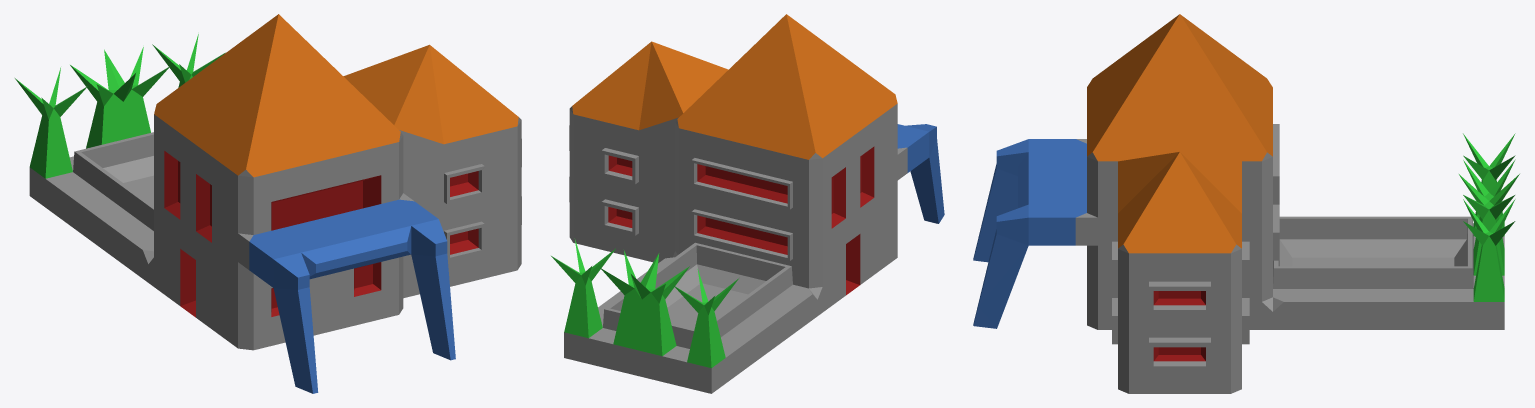
The picture shows the model from 3 angles, left to right: view 1: azimuth 30°, elevation 25°; view 2: azimuth 150°, elevation 25°; view 3: azimuth 270°, elevation 25°; orthographic projection. The views are drawn at different scales.
Visible parts, largest first — view 1: Box001_Part_2, Box001_Part_1, Box001_Part_3, Box001_Part_6, Box001_Part_4; view 2: Box001_Part_2, Box001_Part_3, Box001_Part_5, Box001_Part_6, Box001_Part_4, Box001_Part_1; view 3: Box001_Part_1, Box001_Part_3, Box001_Part_4, Box001_Part_5, Box001_Part_2, Box001_Part_6.
Boxes of the visible parts, left/top/right/bottom form: Box001_Part_2: left=154, top=14, right=422, bottom=393; Box001_Part_1: left=341, top=75, right=521, bottom=336; Box001_Part_3: left=15, top=34, right=225, bottom=257; Box001_Part_6: left=114, top=204, right=455, bottom=360; Box001_Part_4: left=343, top=44, right=521, bottom=166; Box001_Part_2: left=728, top=14, right=944, bottom=281; Box001_Part_3: left=551, top=238, right=789, bottom=393; Box001_Part_5: left=569, top=106, right=731, bottom=296; Box001_Part_6: left=688, top=189, right=864, bottom=338; Box001_Part_4: left=569, top=41, right=710, bottom=182; Box001_Part_1: left=685, top=53, right=745, bottom=127; Box001_Part_1: left=978, top=65, right=1264, bottom=393; Box001_Part_3: left=1328, top=133, right=1519, bottom=329; Box001_Part_4: left=1118, top=109, right=1270, bottom=333; Box001_Part_5: left=1134, top=123, right=1359, bottom=393; Box001_Part_2: left=973, top=14, right=1279, bottom=262; Box001_Part_6: left=973, top=204, right=1334, bottom=329.
Bounding box in the file's own units: 197 × 168 × 299.
